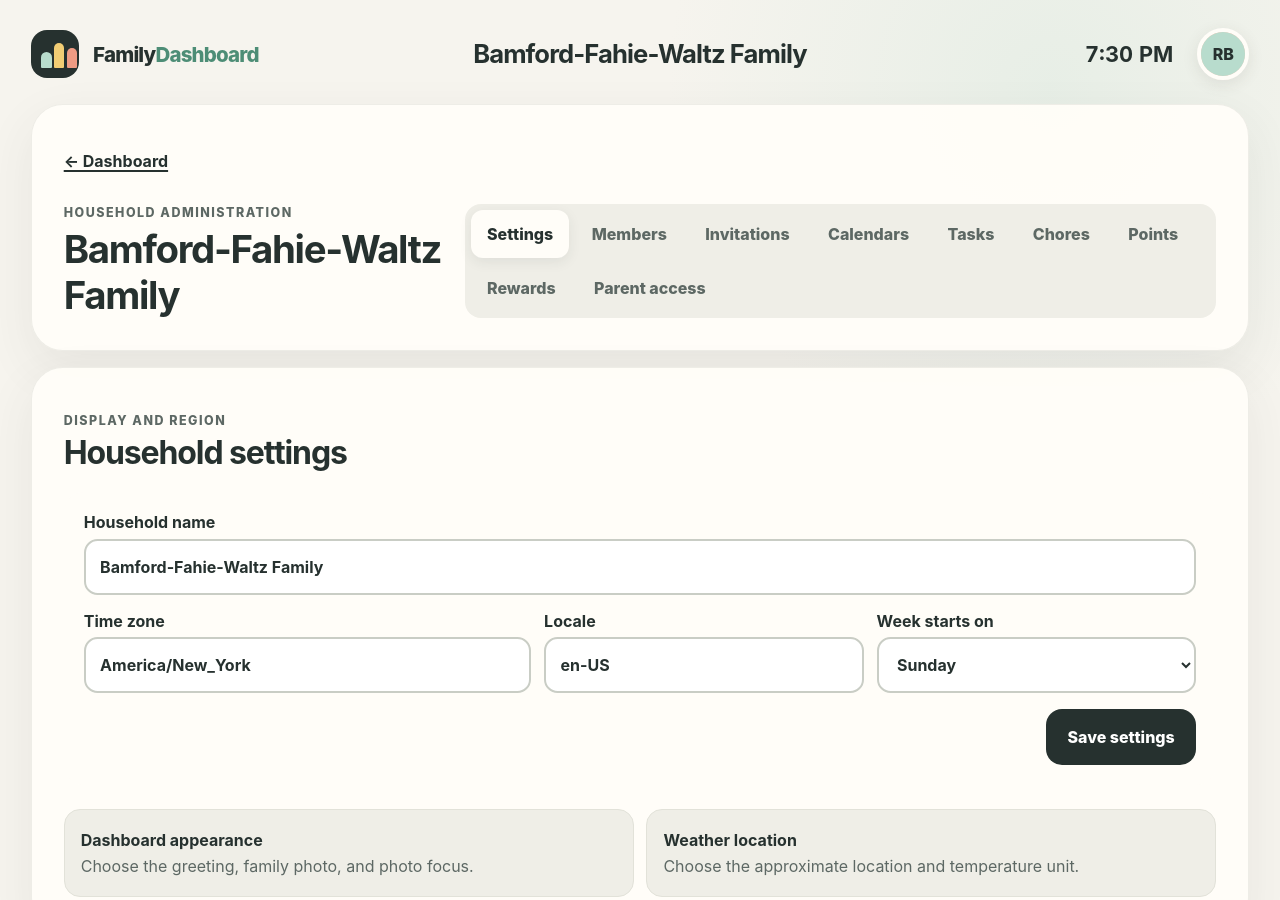
Test case: household administration › saves regional settings and refreshes the authenticated household heading
Expected: the heading "Household settings" is shown, [64,433,347,472]
Replace the text in the field labelled "Household name" with "Updated Family". click: (640, 566)
box: [84,538,1196,594]
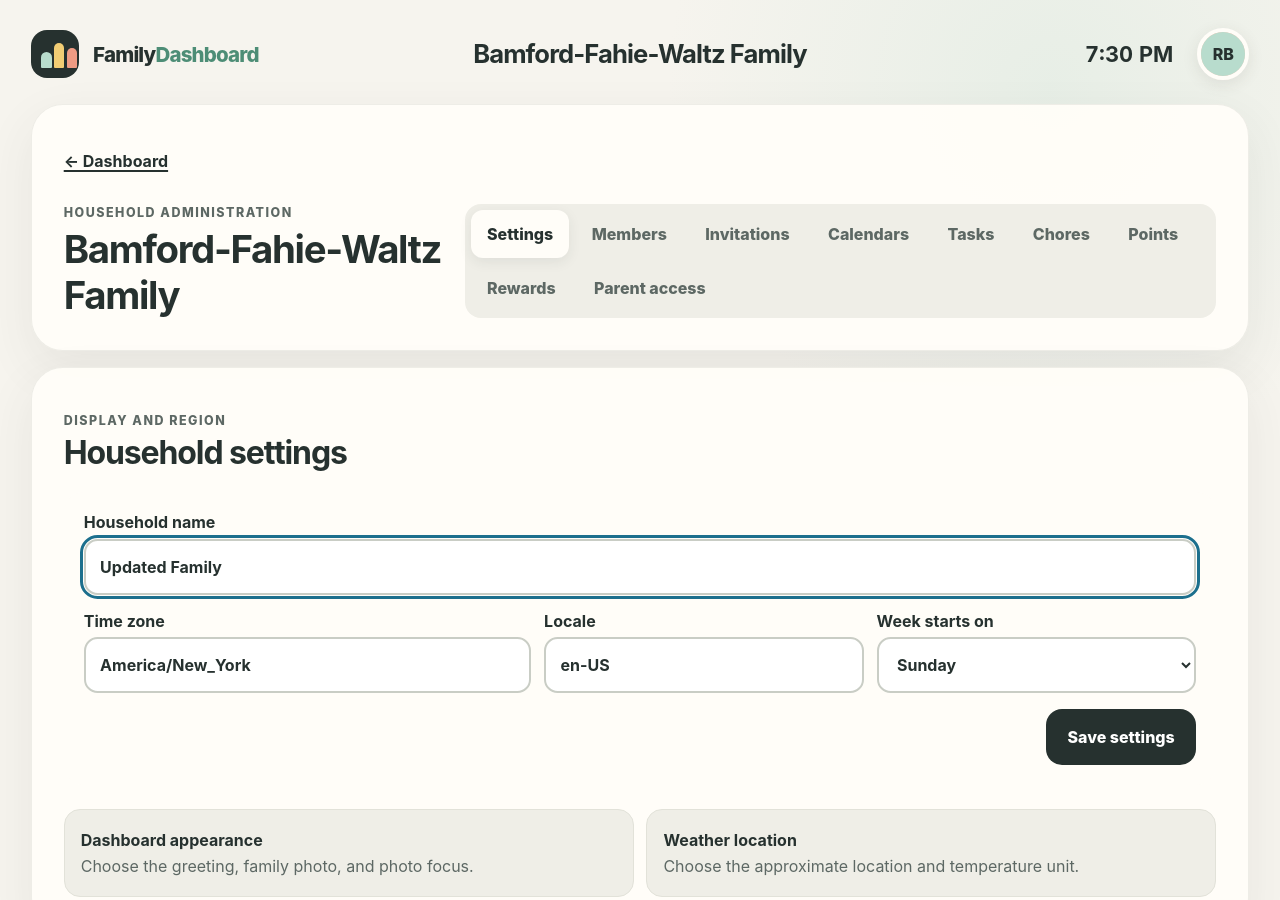
Select "Monday" in the dropdown labelled "Week starts on". click: (1036, 665)
box: [877,637,1196,693]
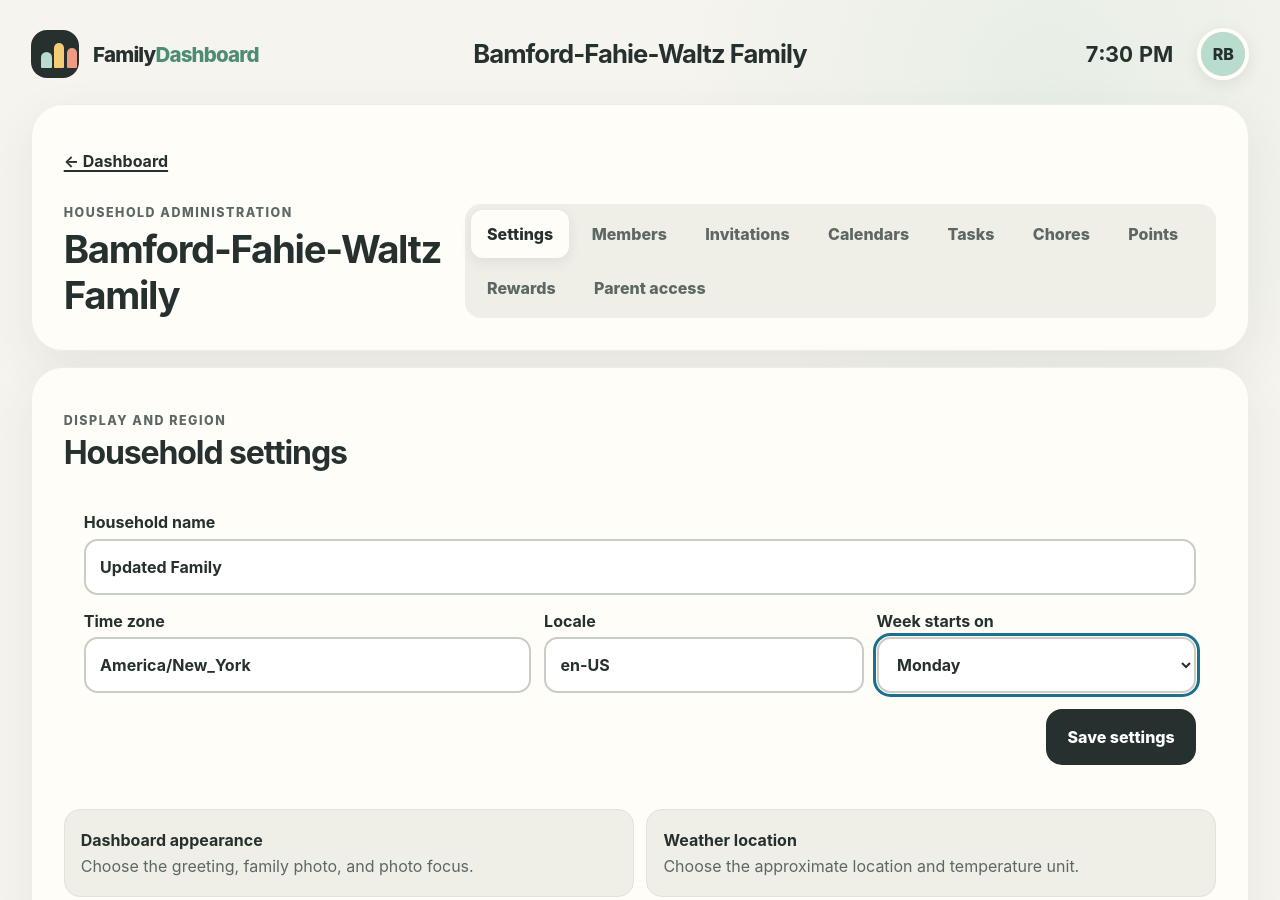
Click the button "Save settings". click: (1121, 737)
box: [1046,709,1196,765]
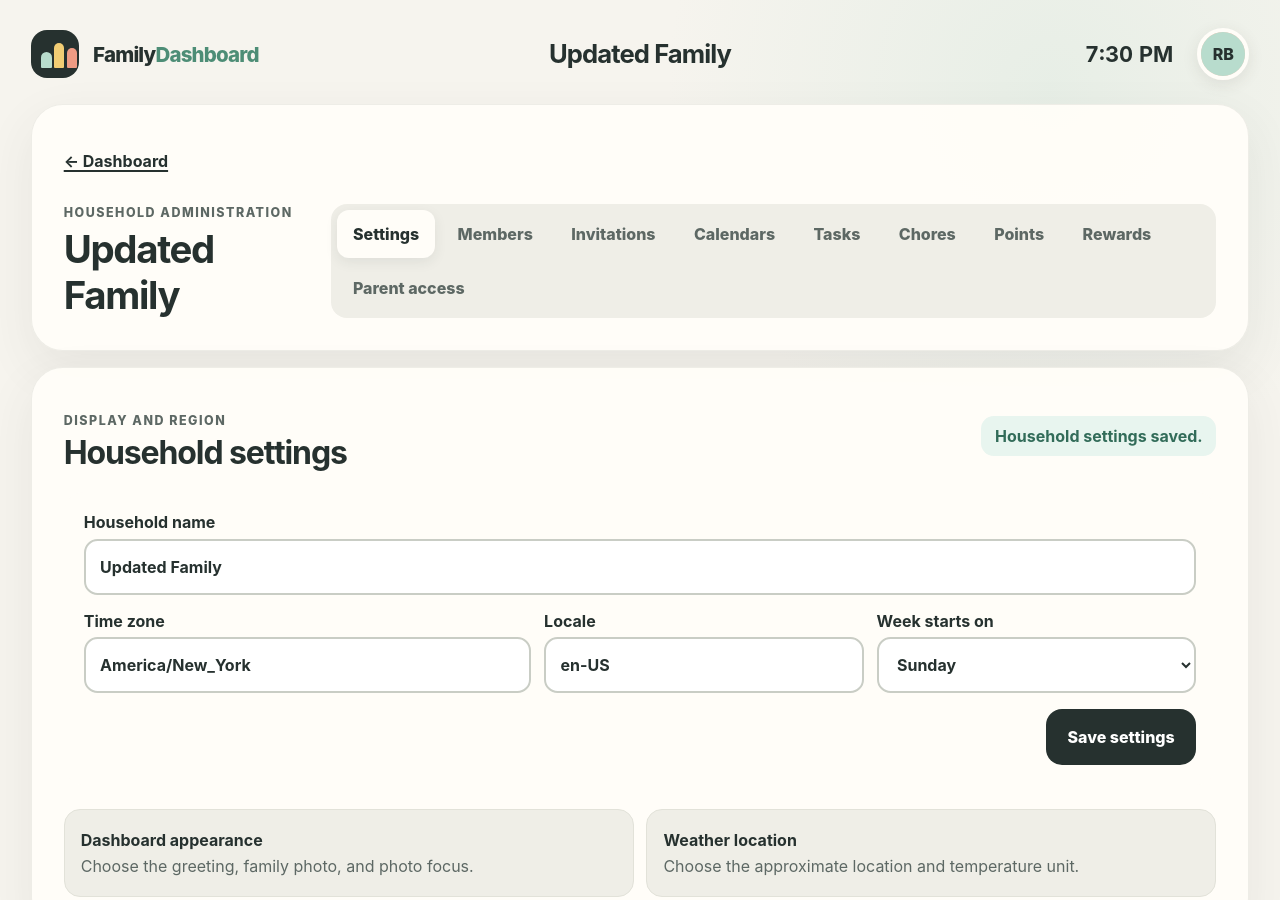
Expected: the text "Household settings saved." is shown, [982,416,1216,456]
Expected: the heading "Updated Family" in the row of "7:30 PM" is shown, [549,40,731,68]
